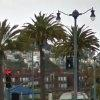Palm tree: (16, 11, 67, 93)
